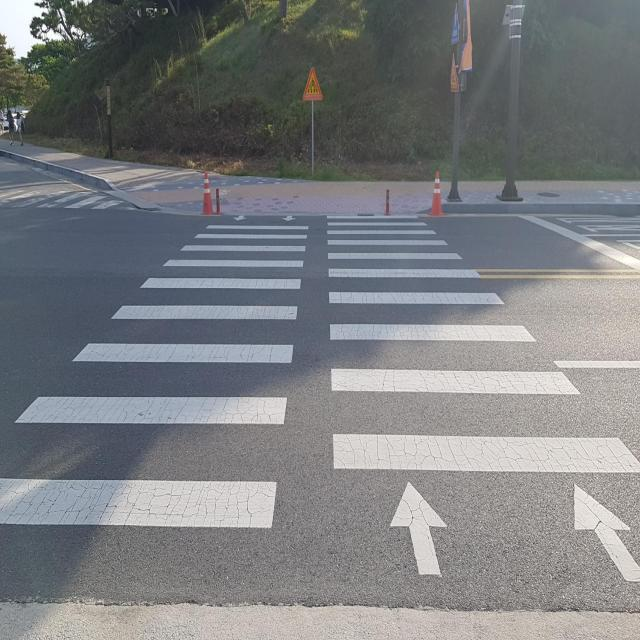횡단보도: (0, 212, 640, 587)
